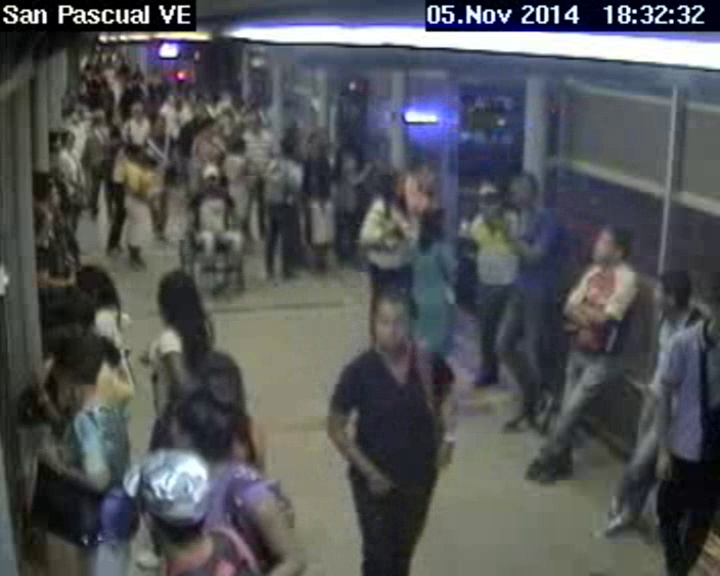person: (129, 447, 230, 556), (166, 381, 241, 462), (45, 322, 107, 406), (358, 282, 425, 353), (154, 269, 203, 335), (652, 259, 693, 319), (74, 259, 122, 310), (472, 180, 507, 232), (589, 221, 625, 265), (372, 164, 407, 206), (506, 165, 540, 208), (417, 205, 447, 247), (25, 201, 53, 243), (335, 127, 361, 158), (707, 297, 720, 350), (124, 142, 146, 171), (277, 134, 299, 163), (305, 131, 328, 158), (199, 165, 224, 186), (57, 124, 75, 153), (227, 136, 247, 155), (127, 100, 146, 118), (205, 117, 222, 136), (248, 115, 267, 131), (90, 111, 109, 126), (150, 114, 164, 134), (191, 103, 205, 119)
